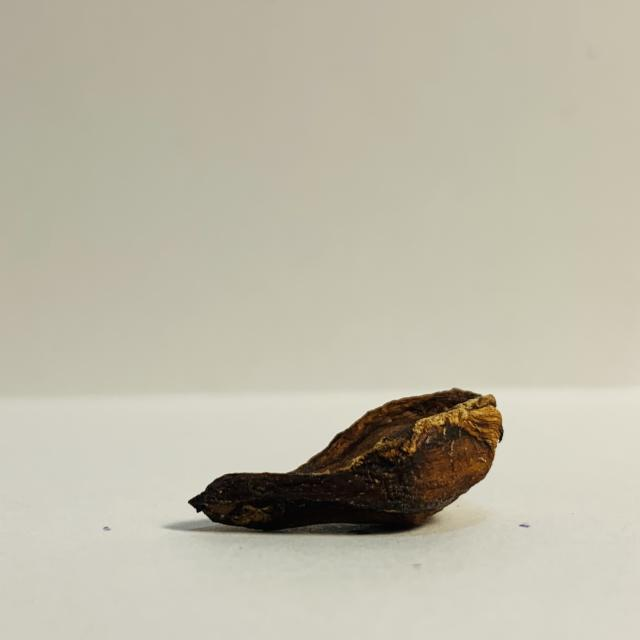Flat_cocoabeans: (71, 358, 555, 574)
